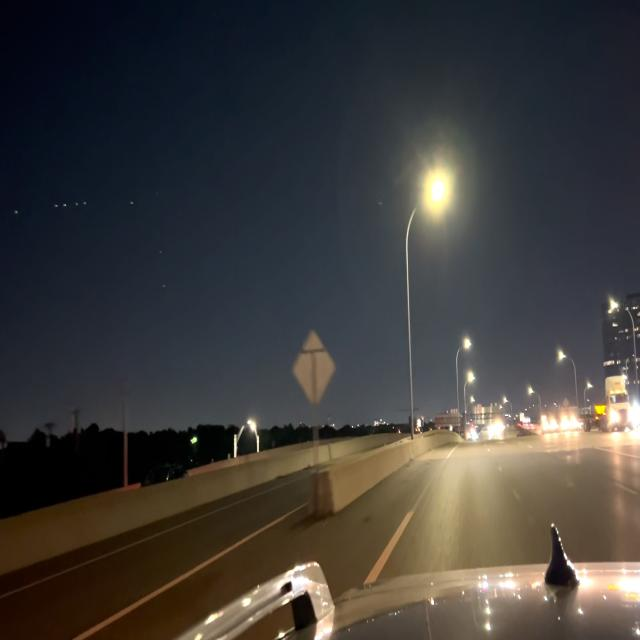back-of-sign: (292, 328, 336, 406)
